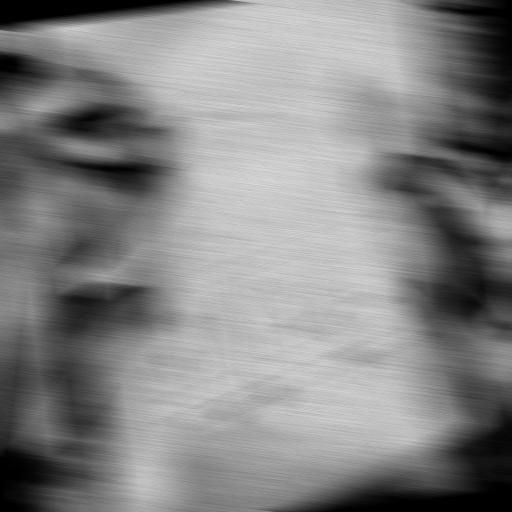bottom_right: (468, 413, 491, 429)
house: (76, 16, 466, 466)
